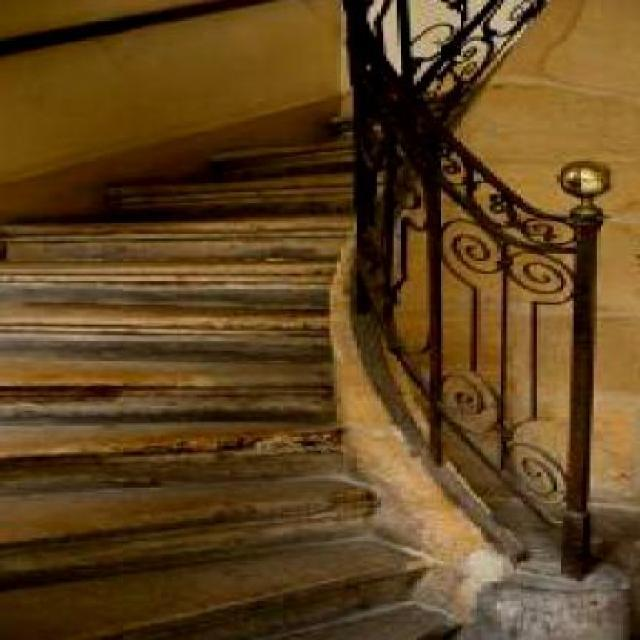stair: (3, 0, 590, 638)
